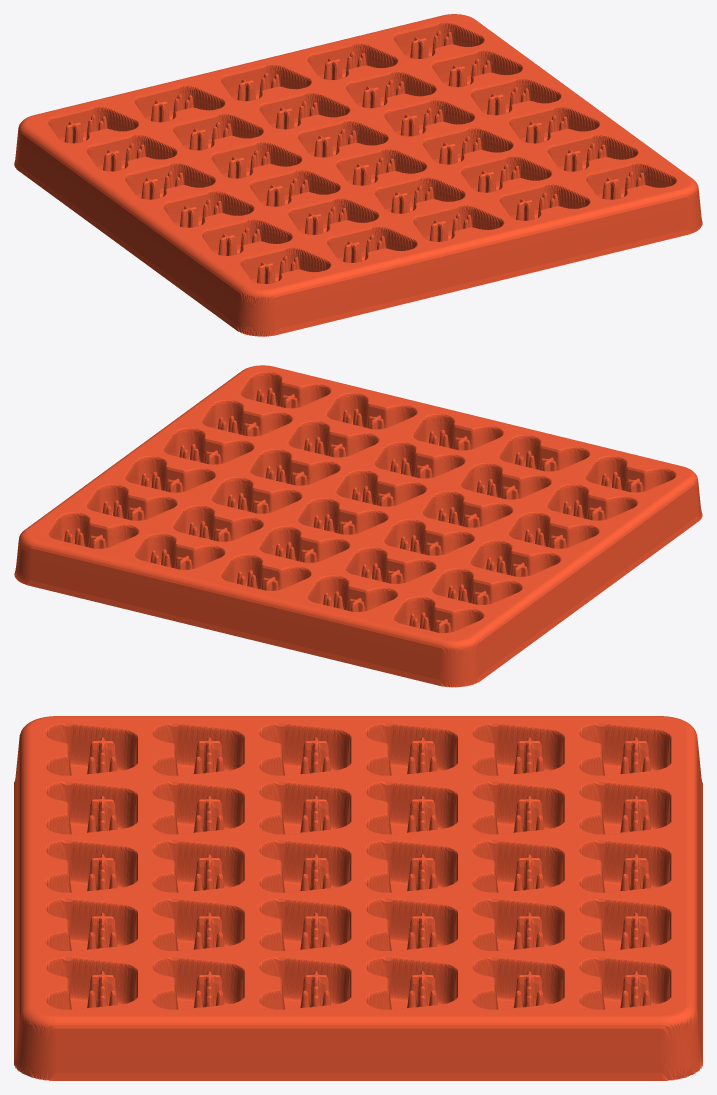
Rendered from mold.glb.
3 renders of one model, top to bottom at view 1: azimuth 30°, elevation 25°; view 2: azimuth 150°, elevation 25°; view 3: azimuth 270°, elevation 25°, orthographic. The views are drawn at different scales.
Visible parts, largest first — view 1: geometry_0; view 2: geometry_0; view 3: geometry_0.
Part boxes in pixels (left/top/right/bottom): geometry_0: left=14, top=14, right=702, bottom=336; geometry_0: left=14, top=365, right=702, bottom=687; geometry_0: left=14, top=716, right=702, bottom=1080.
Size of the model in its own units: 0.1581 by 0.0136 by 0.1471.
